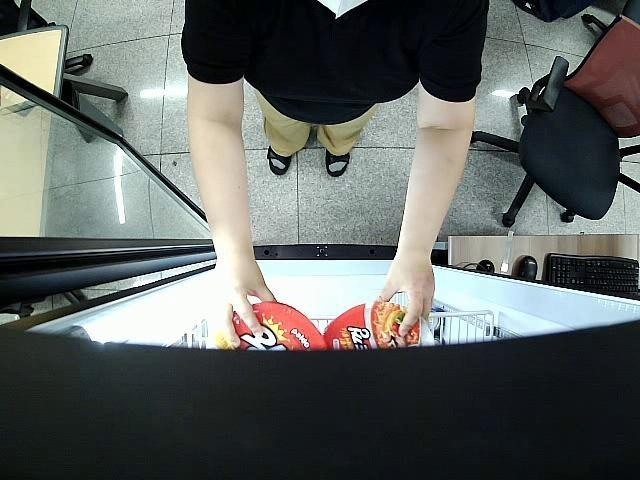10_wangTtukkeong: (212, 301, 324, 352), (327, 299, 438, 348)
